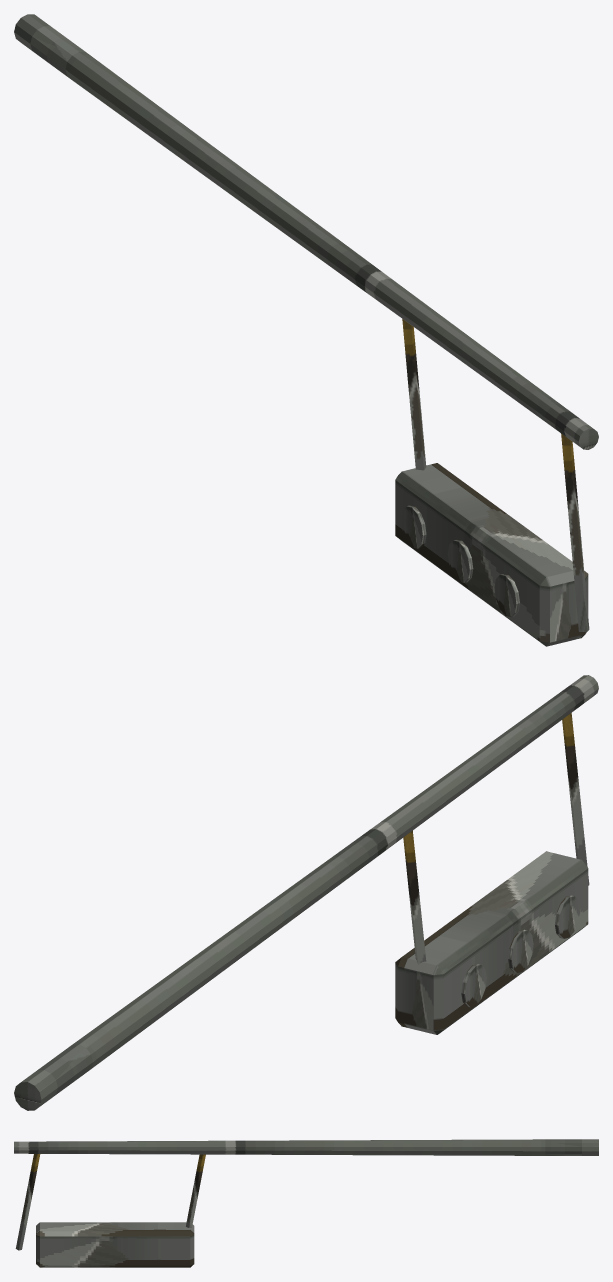
File: pz_street_pole_23.obj
3 renders of one model, top to bottom at view 1: azimuth 30°, elevation 25°; view 2: azimuth 150°, elevation 25°; view 3: azimuth 270°, elevation 25°, orthographic. The views are drawn at different scales.
Visible parts, largest first — view 1: pz_street_pole_23_|_tapered_native_street_pole, pz_street_pole_23_|_native_traffic_signal_housing, pz_street_pole_23_|_traffic_light_support_arm.001, pz_street_pole_23_|_traffic_light_support_arm, pz_street_pole_23_|_signal_light_lens.002, pz_street_pole_23_|_signal_light_lens.001, pz_street_pole_23_|_signal_light_lens; view 2: pz_street_pole_23_|_tapered_native_street_pole, pz_street_pole_23_|_native_traffic_signal_housing, pz_street_pole_23_|_traffic_light_support_arm.001, pz_street_pole_23_|_traffic_light_support_arm, pz_street_pole_23_|_signal_light_lens.002, pz_street_pole_23_|_signal_light_lens, pz_street_pole_23_|_signal_light_lens.001; view 3: pz_street_pole_23_|_tapered_native_street_pole, pz_street_pole_23_|_native_traffic_signal_housing, pz_street_pole_23_|_traffic_light_support_arm.001, pz_street_pole_23_|_traffic_light_support_arm.
Part boxes in pixels (left/top/right/bottom): pz_street_pole_23_|_tapered_native_street_pole: left=14, top=14, right=598, bottom=449; pz_street_pole_23_|_native_traffic_signal_housing: left=395, top=463, right=588, bottom=646; pz_street_pole_23_|_traffic_light_support_arm.001: left=561, top=433, right=589, bottom=631; pz_street_pole_23_|_traffic_light_support_arm: left=402, top=319, right=426, bottom=470; pz_street_pole_23_|_signal_light_lens.002: left=401, top=505, right=426, bottom=548; pz_street_pole_23_|_signal_light_lens.001: left=447, top=539, right=473, bottom=582; pz_street_pole_23_|_signal_light_lens: left=494, top=574, right=519, bottom=616; pz_street_pole_23_|_tapered_native_street_pole: left=14, top=675, right=598, bottom=1110; pz_street_pole_23_|_native_traffic_signal_housing: left=395, top=851, right=588, bottom=1034; pz_street_pole_23_|_traffic_light_support_arm.001: left=562, top=713, right=589, bottom=885; pz_street_pole_23_|_traffic_light_support_arm: left=403, top=830, right=426, bottom=964; pz_street_pole_23_|_signal_light_lens.002: left=461, top=964, right=486, bottom=1007; pz_street_pole_23_|_signal_light_lens: left=555, top=895, right=580, bottom=938; pz_street_pole_23_|_signal_light_lens.001: left=508, top=929, right=533, bottom=972; pz_street_pole_23_|_tapered_native_street_pole: left=14, top=1139, right=598, bottom=1155; pz_street_pole_23_|_native_traffic_signal_housing: left=36, top=1222, right=194, bottom=1267; pz_street_pole_23_|_traffic_light_support_arm.001: left=15, top=1154, right=40, bottom=1250; pz_street_pole_23_|_traffic_light_support_arm: left=186, top=1154, right=205, bottom=1227.
Size of the model in its own units: 0.139 by 0.556 by 2.4.
Materials: 5 (5 with a texture image).
